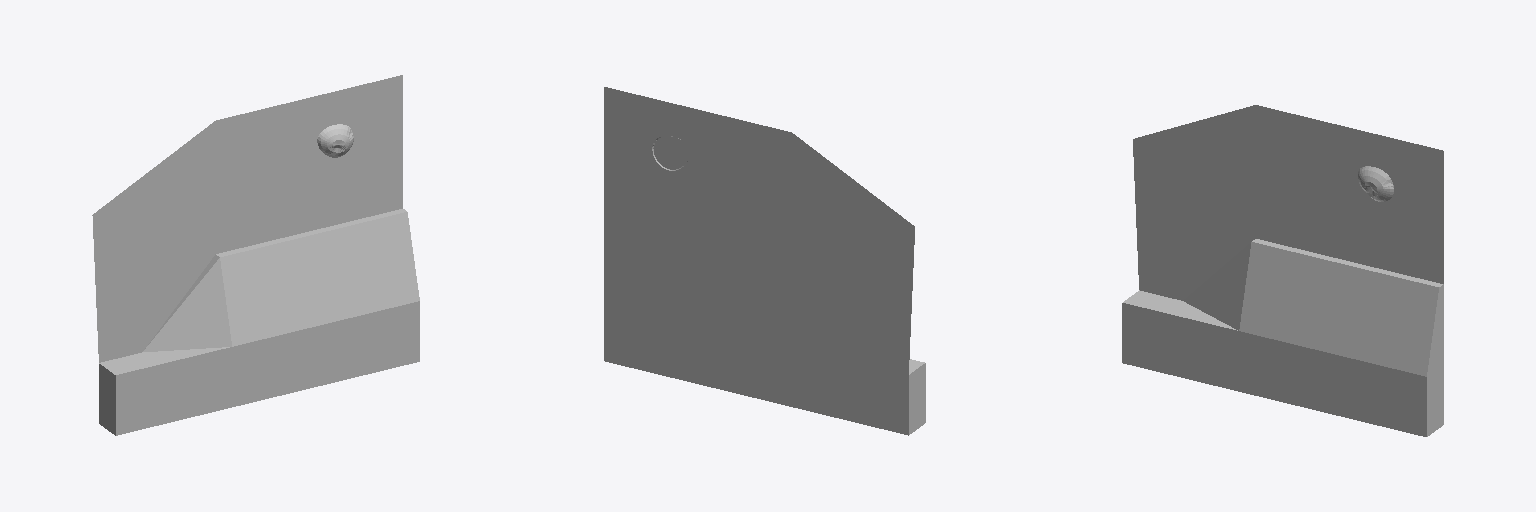
Rendered from stonePlace.obj.
3 renders of one model, left to right at view 1: azimuth 30°, elevation 25°; view 2: azimuth 150°, elevation 25°; view 3: azimuth 330°, elevation 25°, orthographic.
Visible parts, largest first — view 1: Cube_Cube.001; view 2: Cube_Cube.001; view 3: Cube_Cube.001.
Part boxes in pixels (bbox=[...]): Cube_Cube.001: bbox=[92, 75, 419, 435]; Cube_Cube.001: bbox=[604, 87, 925, 435]; Cube_Cube.001: bbox=[1122, 105, 1443, 436].
Bounding box in the file's own units: 10.72 × 9.06 × 1.03.